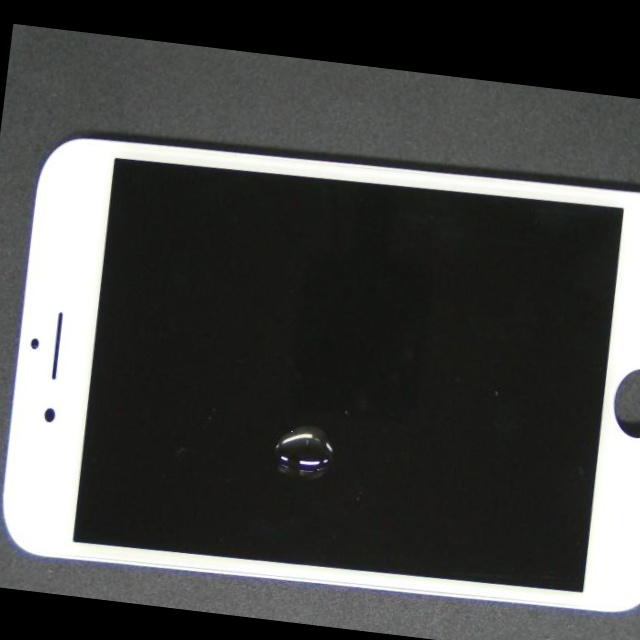oil: (98, 213, 453, 636)
